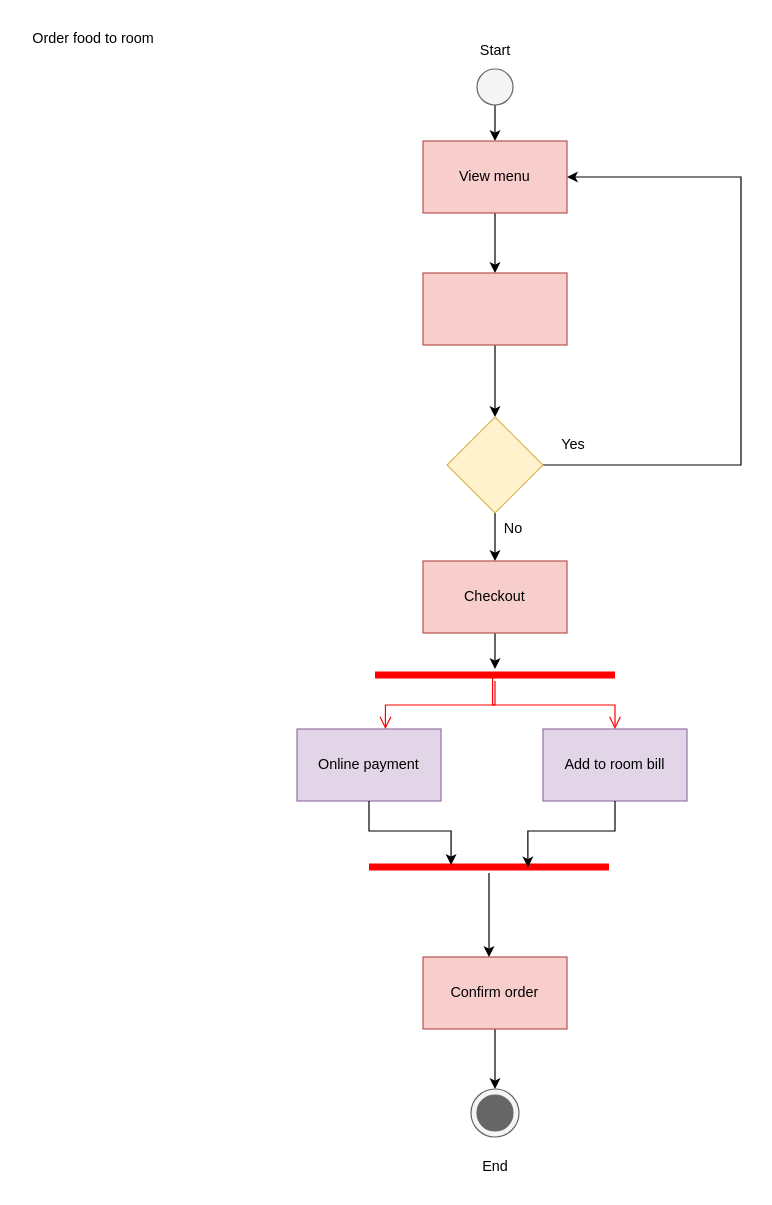
The diagram is 772 pixels wide and 1205 high, and some of its shapes have lost their labels. Here are the shapes that lost their labels. From the top down, the centre of each, then its label:
At (x=494, y=308): "Select food".
At (x=494, y=464): "Add meal?".
